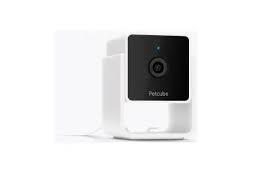maru: (93, 22, 199, 141)
